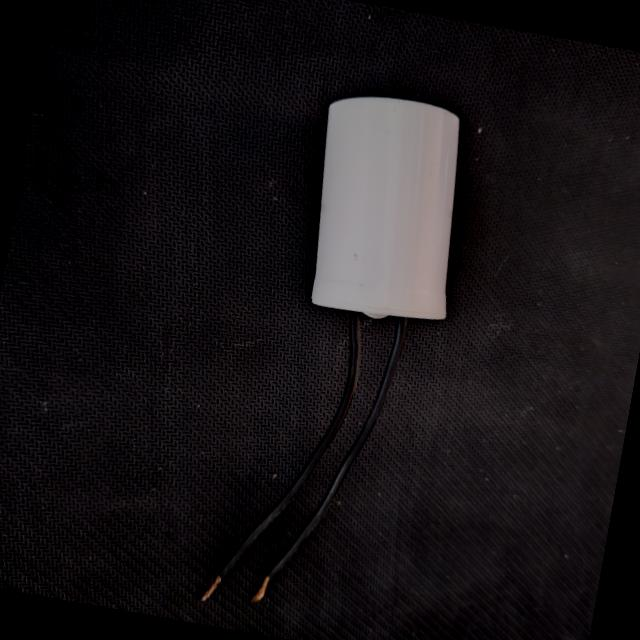capacitor: (179, 67, 487, 640)
